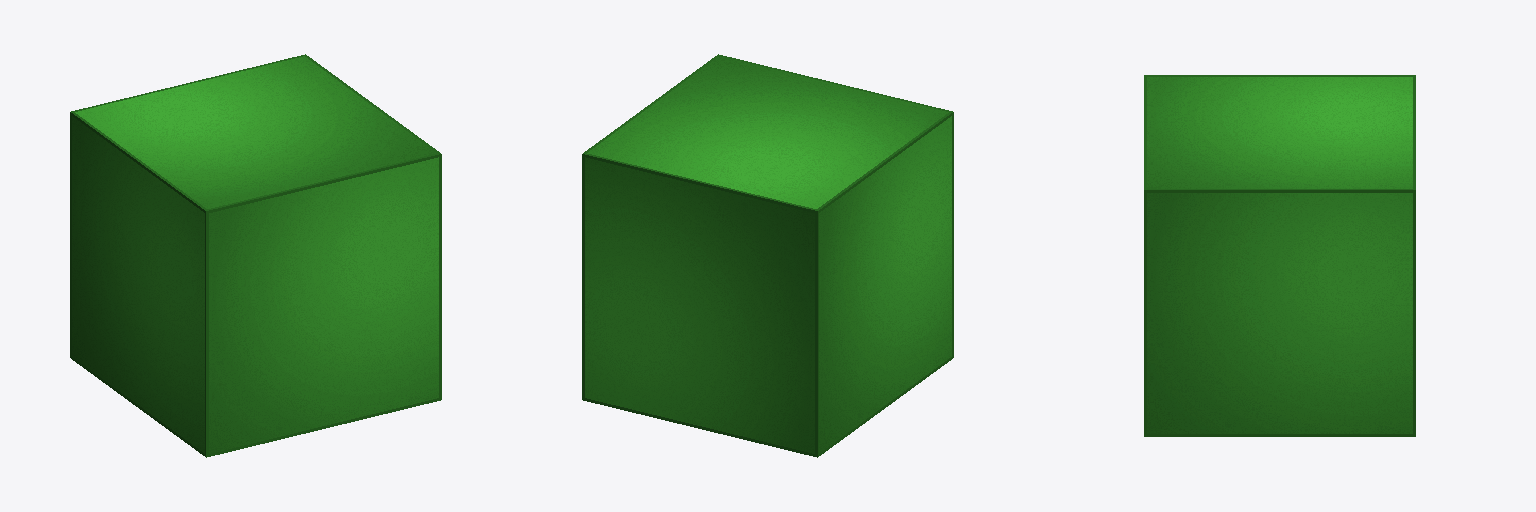
3 renders of one model, left to right at view 1: azimuth 30°, elevation 25°; view 2: azimuth 150°, elevation 25°; view 3: azimuth 270°, elevation 25°, orthographic.
Bounding box in the file's own units: 0.4 × 0.4 × 0.4.
Materials: 1 (1 with a texture image).